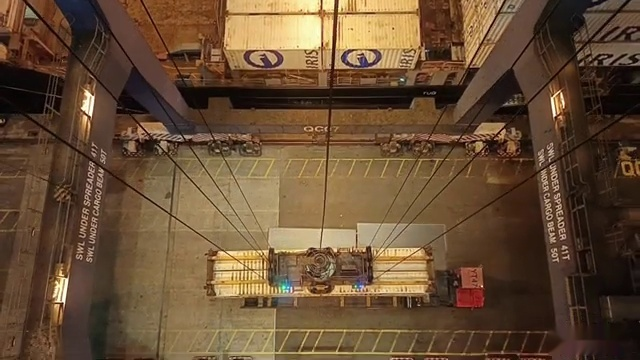container: (202, 234, 447, 305), (225, 18, 428, 75), (223, 1, 424, 37), (222, 0, 424, 23), (222, 0, 421, 20), (455, 3, 640, 24), (209, 0, 435, 17), (225, 0, 422, 16)
guide_mark: (67, 331, 561, 353), (107, 160, 540, 178)
spreader: (194, 239, 444, 298)
target_slot: (202, 255, 449, 310)
